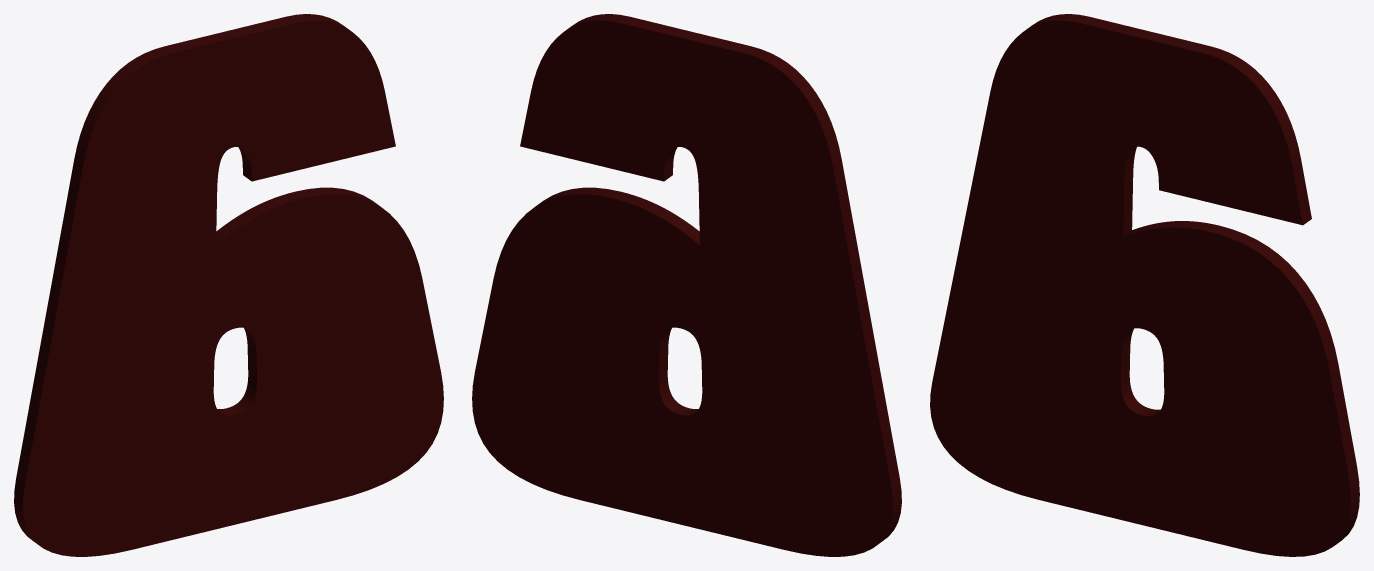
The model's file is original-23.obj.
The picture shows the model from 3 angles, left to right: view 1: azimuth 30°, elevation 25°; view 2: azimuth 150°, elevation 25°; view 3: azimuth 330°, elevation 25°; orthographic projection.
Parts seen in each view (by area): view 1: mesh50/mesh50-geometry#mesh50-geometry; view 2: mesh50/mesh50-geometry#mesh50-geometry; view 3: mesh50/mesh50-geometry#mesh50-geometry.
Part boxes in pixels (<box>): mesh50/mesh50-geometry#mesh50-geometry: <box>14,14,443,556</box>; mesh50/mesh50-geometry#mesh50-geometry: <box>472,14,901,556</box>; mesh50/mesh50-geometry#mesh50-geometry: <box>930,14,1359,556</box>.
Bounding box in the file's own units: 0.361 × 0.399 × 0.0132.
